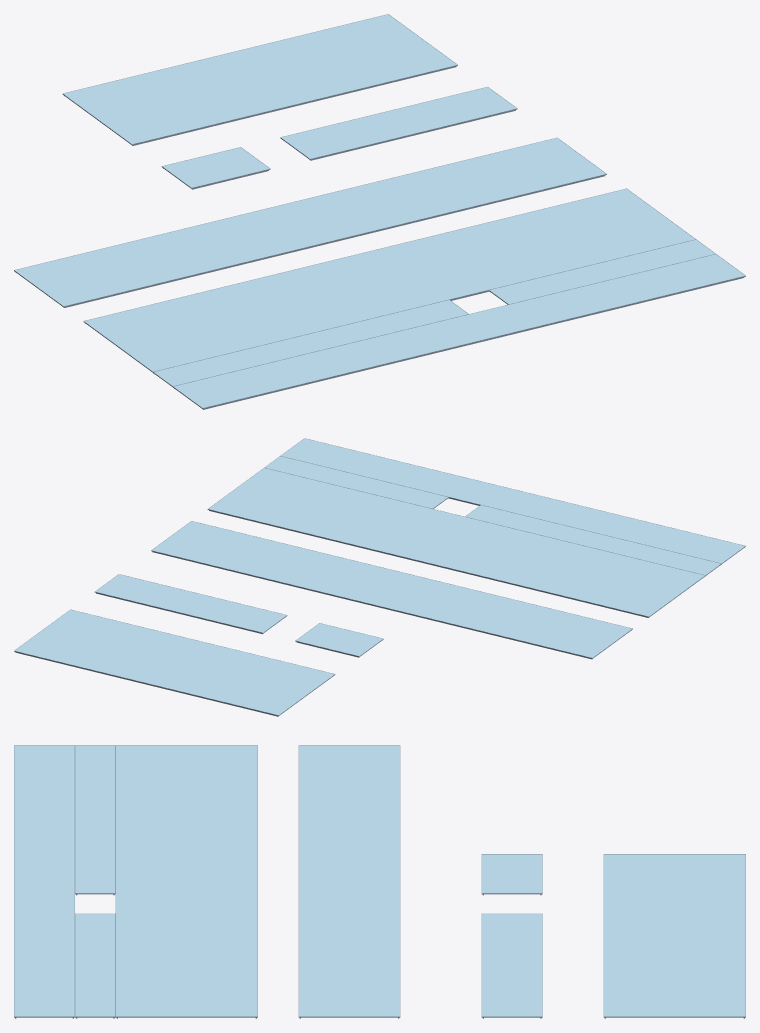
File: SM_MPRR_SolarBank_00_0.fbx
The picture shows the model from 3 angles, top to bottom: view 1: azimuth 30°, elevation 25°; view 2: azimuth 150°, elevation 25°; view 3: azimuth 270°, elevation 25°; orthographic projection. The views are drawn at different scales.
Visible parts, largest first — view 1: SM_MPRR_SolarBank_00_0; view 2: SM_MPRR_SolarBank_00_0; view 3: SM_MPRR_SolarBank_00_0.
Boxes of the visible parts, x1,y1,x2,y2 form: SM_MPRR_SolarBank_00_0: (14, 14, 745, 409); SM_MPRR_SolarBank_00_0: (14, 438, 745, 716); SM_MPRR_SolarBank_00_0: (14, 745, 745, 1018).
Size of the model in its own units: 6160 by 7020 by 24.6.
